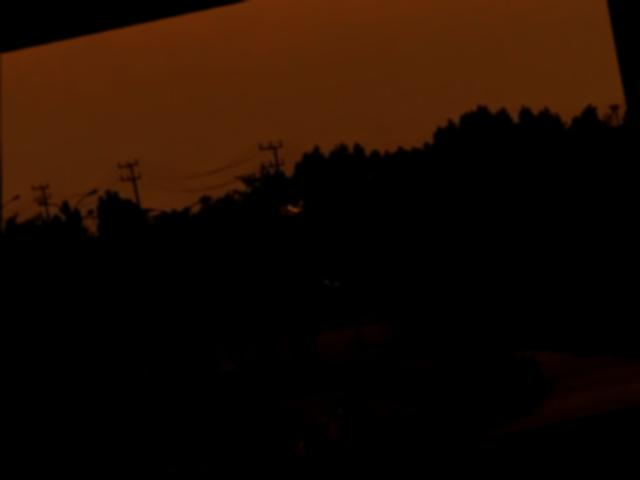plane: (243, 191, 323, 230)
